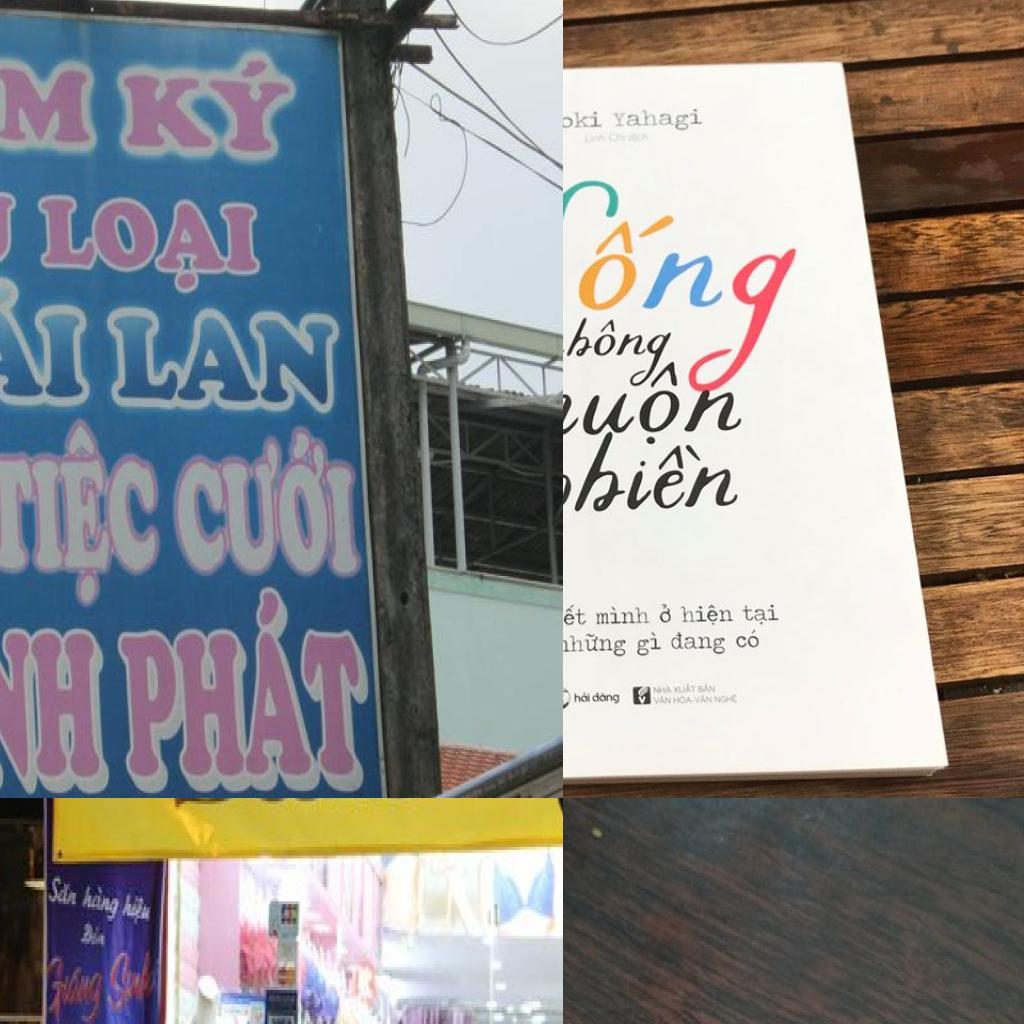text: (563, 167, 815, 398), (114, 578, 380, 794), (0, 419, 165, 613), (169, 426, 369, 586), (563, 428, 755, 582), (98, 305, 341, 419), (39, 178, 264, 298), (116, 42, 305, 166), (0, 622, 109, 798), (0, 268, 92, 405), (0, 45, 99, 156), (563, 316, 680, 389), (563, 354, 687, 391), (614, 105, 710, 131), (563, 628, 628, 661), (80, 881, 126, 927), (668, 628, 727, 658), (120, 890, 158, 933), (679, 601, 736, 628), (47, 872, 83, 912), (593, 603, 653, 625), (743, 600, 782, 627), (563, 109, 602, 132), (634, 630, 662, 660), (735, 629, 764, 651), (563, 602, 586, 629), (592, 690, 623, 706), (656, 601, 674, 625), (582, 130, 607, 144), (693, 692, 715, 706), (673, 683, 698, 695), (608, 130, 629, 144), (673, 692, 693, 706), (574, 690, 592, 704), (697, 682, 718, 694), (652, 685, 673, 696), (652, 695, 673, 705), (637, 696, 647, 705)
